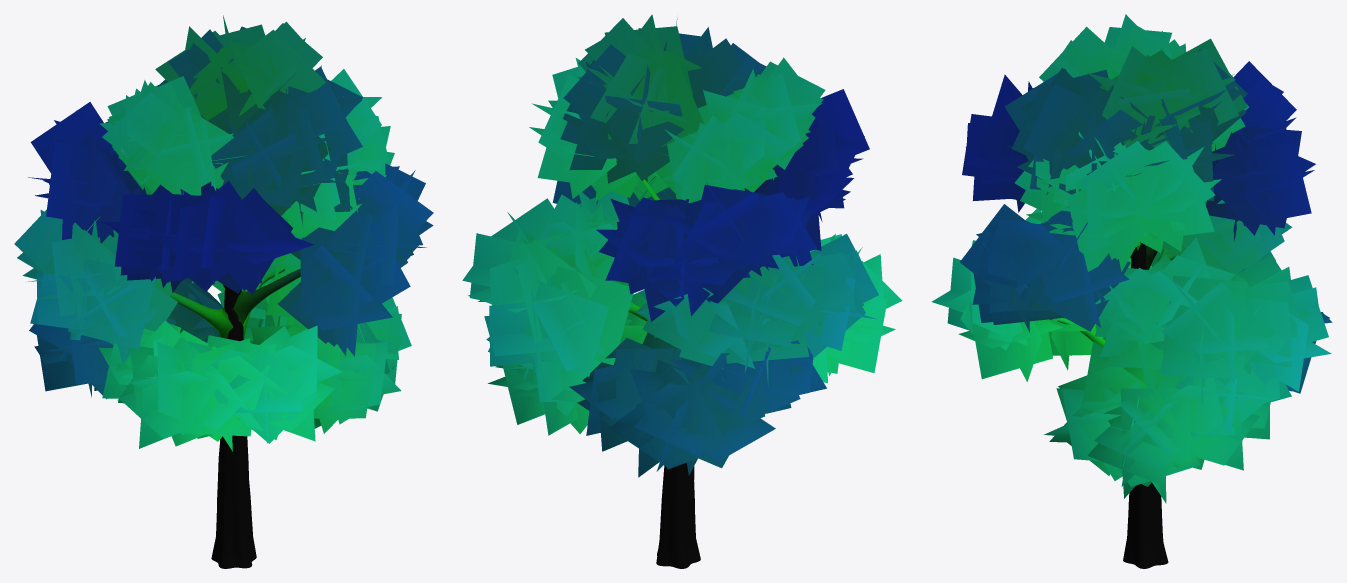
Rendered from Tree2.fbx.
3 renders of one model, left to right at view 1: azimuth 30°, elevation 25°; view 2: azimuth 150°, elevation 25°; view 3: azimuth 270°, elevation 25°, orthographic.
Parts seen in each view (by area): view 1: Tree_1, Tree_0; view 2: Tree_1, Tree_0; view 3: Tree_1, Tree_0.
Boxes of the visible parts, x1,y1,x2,y2 form: Tree_1: (14, 15, 433, 451); Tree_0: (170, 268, 300, 568); Tree_1: (462, 14, 902, 477); Tree_0: (628, 176, 757, 568); Tree_1: (931, 14, 1332, 503); Tree_0: (1049, 160, 1218, 568).
Size of the model in its own units: 461 by 622 by 428.
